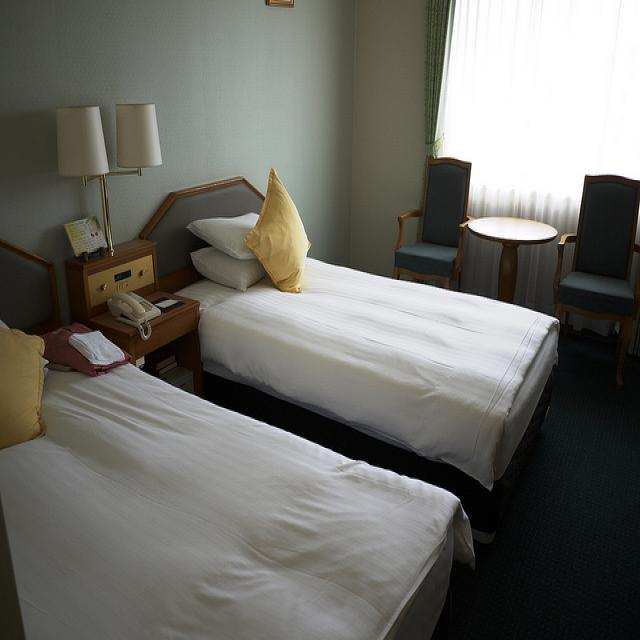chair: (552, 174, 639, 387), (393, 154, 473, 292)
dining table: (467, 212, 558, 242)
